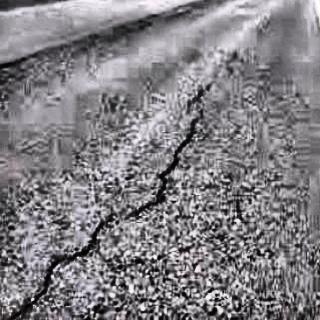crack: (13, 29, 307, 288)
